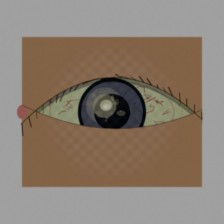corneal_ulcer: (85, 90, 124, 121)
